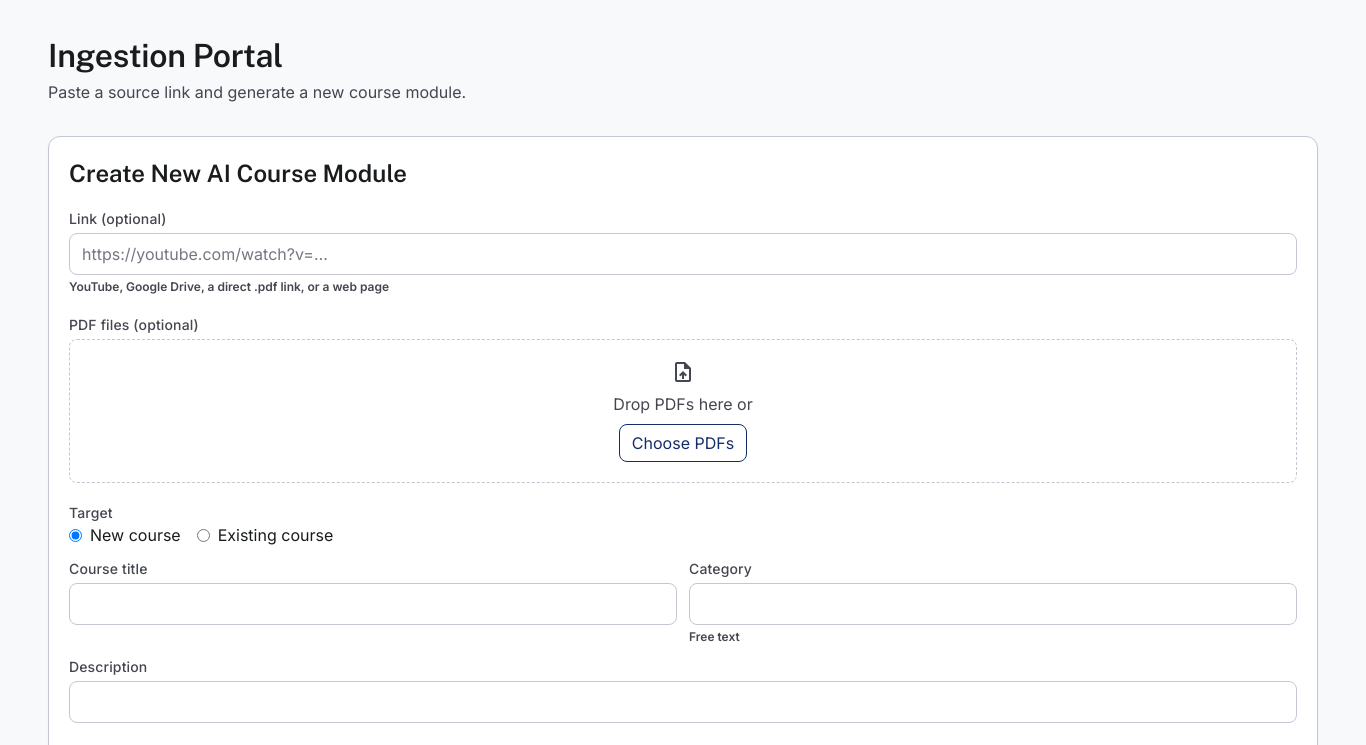
it: IngestionPage PDF sources › shows the empty-sources message and does not POST
The image size is (1366, 745).
In the field labelled "Course title": [373, 604] box [69,583,677,625], type "Intro to ML"
(page scrolled)
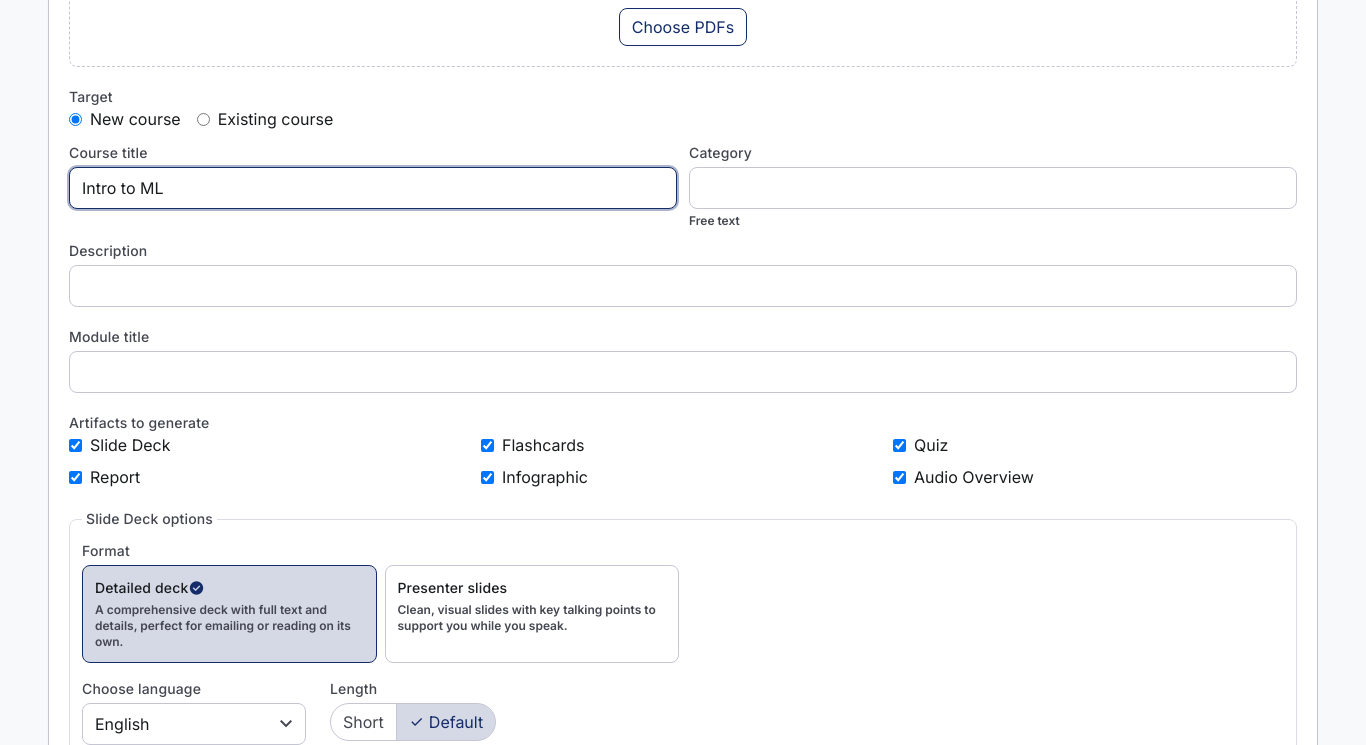
In the field labelled "Module title": [683, 372] box [69,351,1297,393], type "Module 1"
(page scrolled)
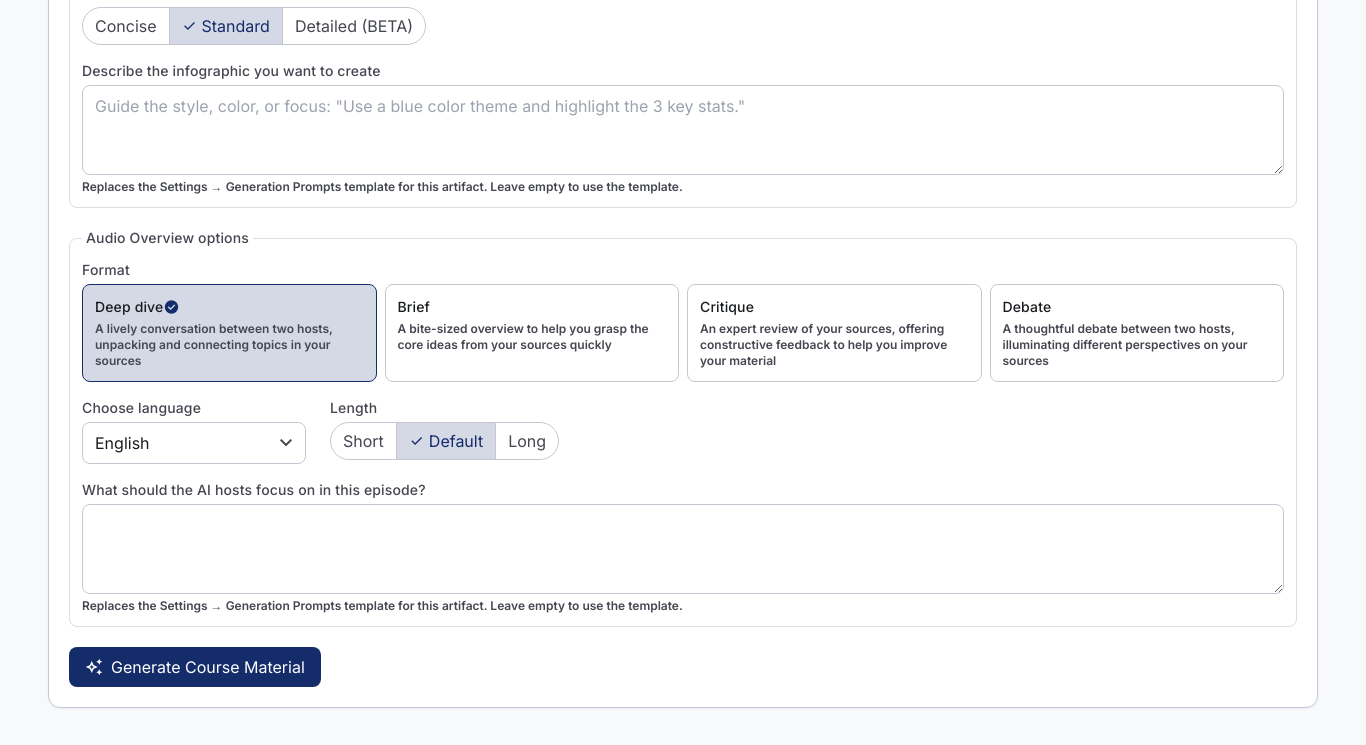
Click the button with test id "btn-ig6": [195, 667] box [69,647,321,687]
(page scrolled)
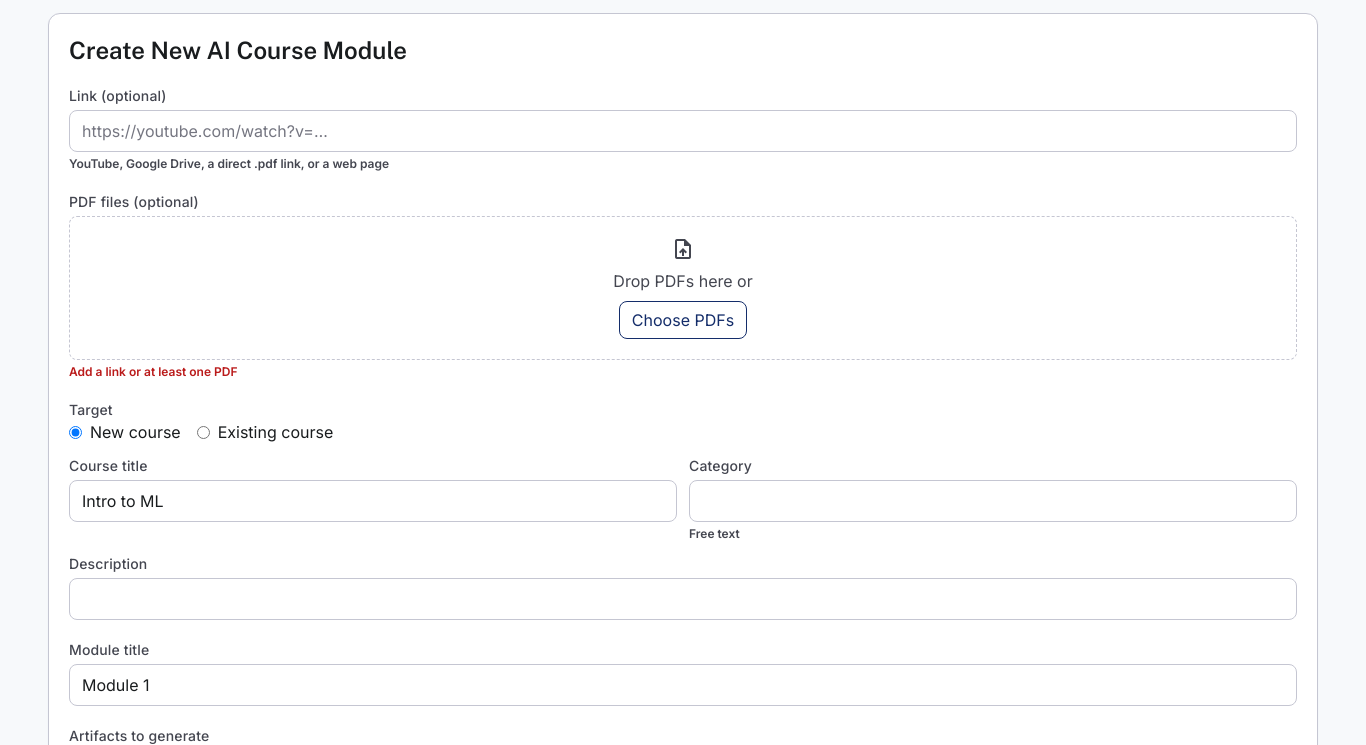
Result: the text "Add a link or at least one PDF" is shown at [69,364,238,379]
